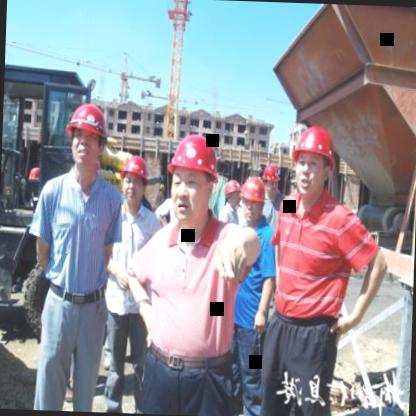helmet: (168, 130, 230, 218), (290, 119, 340, 204), (62, 97, 110, 179), (120, 154, 150, 207), (243, 176, 266, 218), (222, 176, 242, 210), (264, 163, 281, 196)
